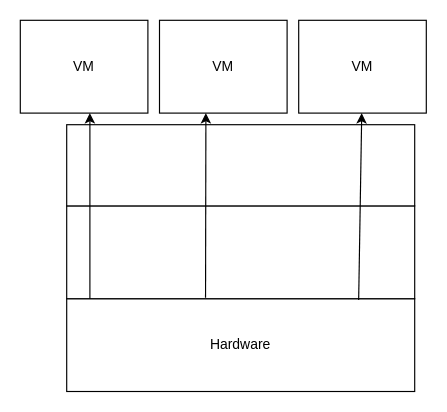
Image size: 447x412. Some labels were removed from this diagram. Each missing label, with the centre of its shape:
Host OS: the point at 240,252
Hypervisor: the point at 240,165
